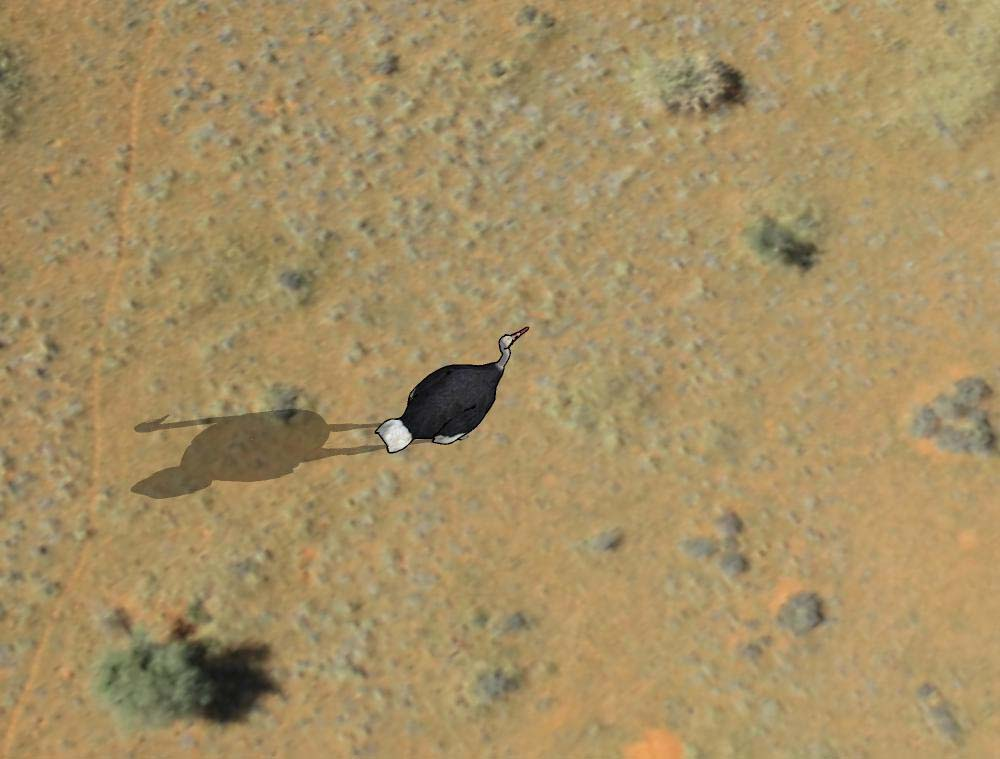springbok: (372, 318, 540, 455)
